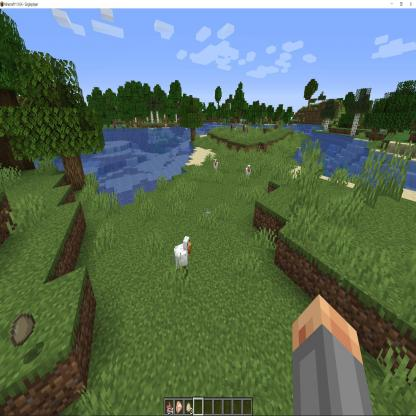minecraft-pigs: (194, 188, 239, 312)
